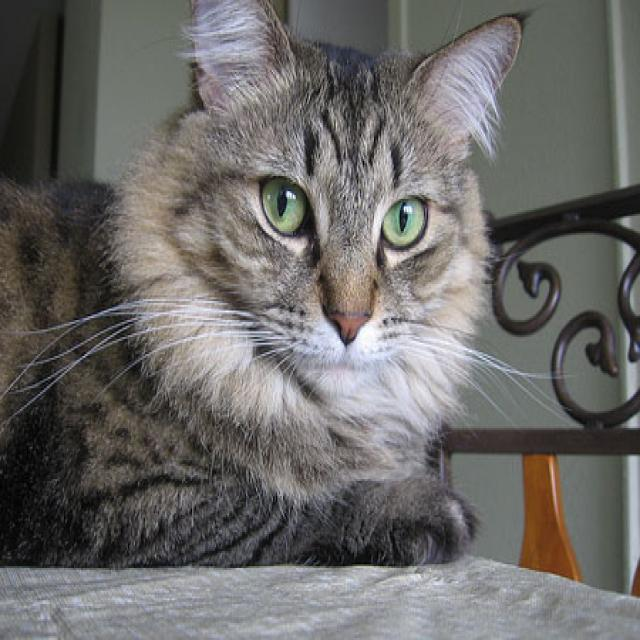Maine Coon: (0, 0, 529, 572)
